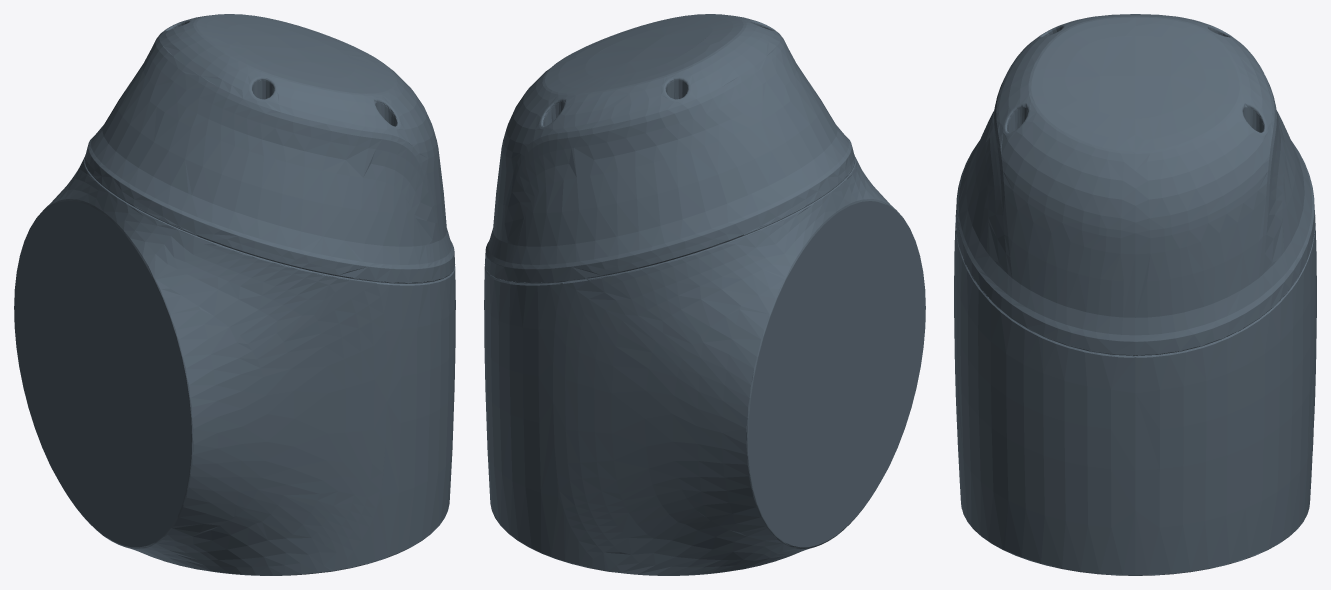
3 renders of one model, left to right at view 1: azimuth 30°, elevation 25°; view 2: azimuth 150°, elevation 25°; view 3: azimuth 270°, elevation 25°, orthographic. The views are drawn at different scales.
Parts seen in each view (by area): view 1: A0509_2_2; view 2: A0509_2_2; view 3: A0509_2_2.
Part boxes in pixels (bbox=[...]): A0509_2_2: bbox=[14, 14, 455, 575]; A0509_2_2: bbox=[484, 14, 925, 575]; A0509_2_2: bbox=[954, 14, 1316, 575].
Size of the model in its own units: 125 by 122 by 170.
